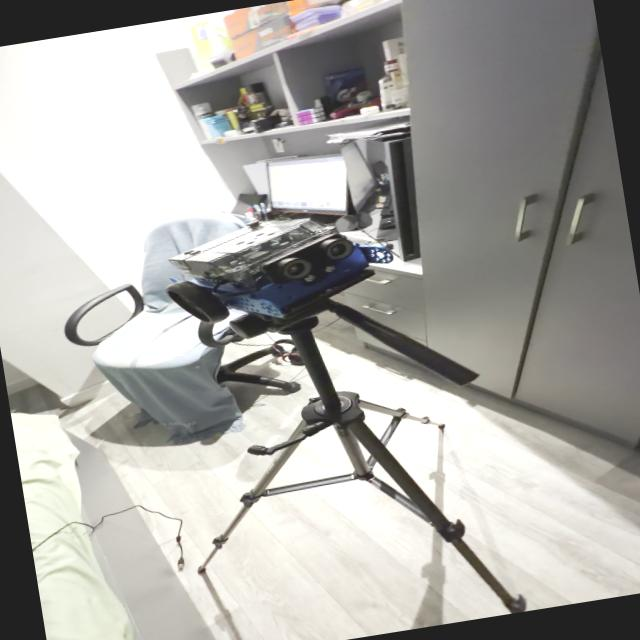mbot-detection: (153, 192, 414, 342)
